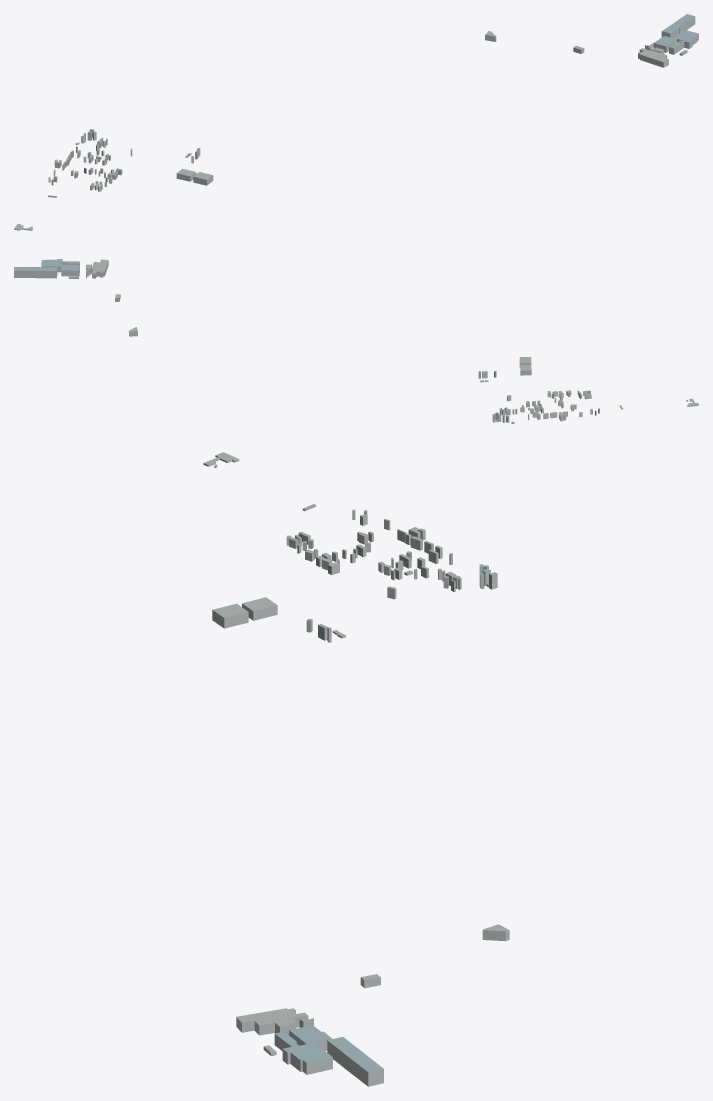
3 views of the same model, one above another, from view 1: azimuth 30°, elevation 25°; view 2: azimuth 150°, elevation 25°; view 3: azimuth 270°, elevation 25° (orthographic). The views are drawn at different scales.
Visible parts, largest first — view 1: 上海全域建筑分块 · mapped building neighborhood; view 2: 上海全域建筑分块 · mapped building neighborhood; view 3: 上海全域建筑分块 · mapped building neighborhood.
Boxes of the visible parts, x1,y1,x2,y2 form: 上海全域建筑分块 · mapped building neighborhood: (14, 14, 698, 230); 上海全域建筑分块 · mapped building neighborhood: (14, 259, 698, 423); 上海全域建筑分块 · mapped building neighborhood: (203, 452, 509, 1086).
Size of the model in its own units: 2119 by 22.6 by 433.
